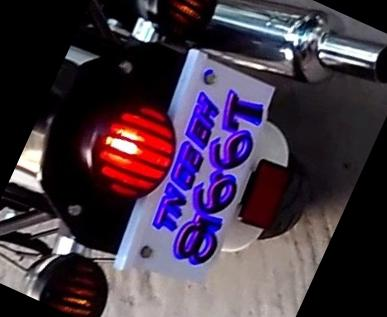plate: (111, 55, 293, 303)
